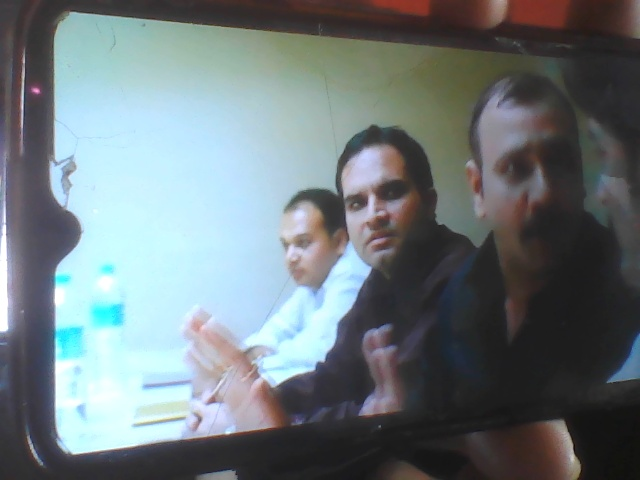fake: (329, 102, 451, 275)
